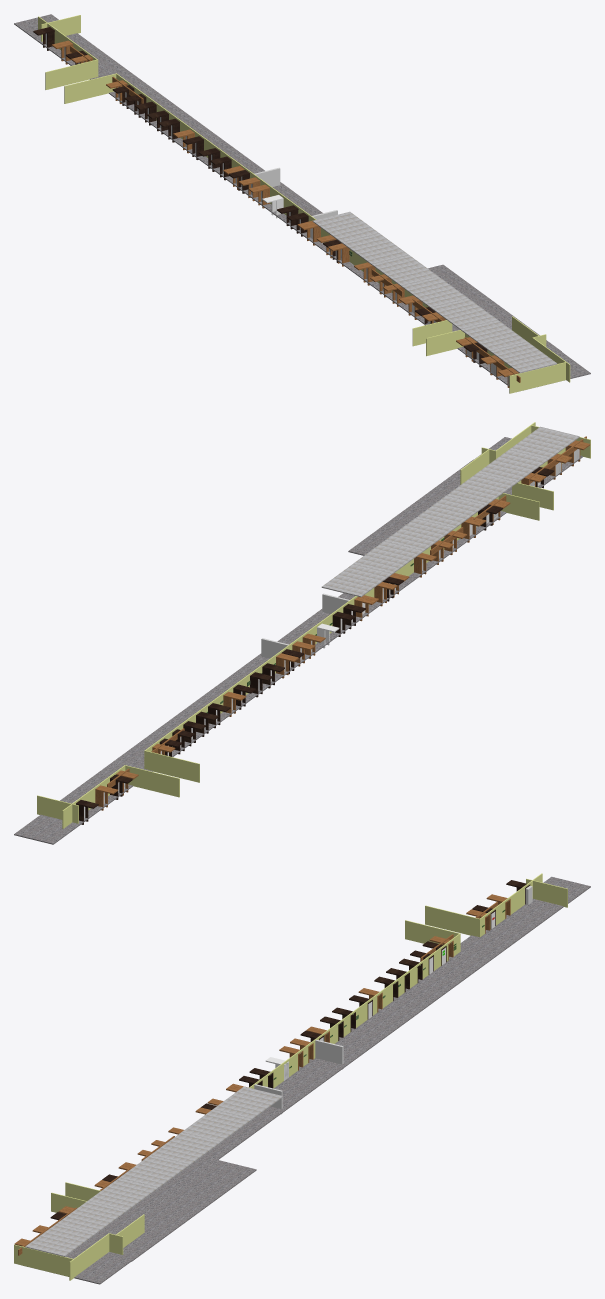
File: primekoridor22.fbx
3 renders of one model, top to bottom at view 1: azimuth 30°, elevation 25°; view 2: azimuth 150°, elevation 25°; view 3: azimuth 330°, elevation 25°, orthographic. The views are drawn at different scales.
Visible parts, largest first — view 1: Cube.091, Cube.097, Cube.092, Cube.094, Cube.093, Cube.096, Cube.095, Cube.001, Cube.218, Cube.216, Cube.031, Cube.032 (+7 smaller); view 2: Cube.097, Cube.091, Cube.093, Cube.094, Cube.095, Cube.092, Cube.096, Cube.239, Cube.216, Cube.218, Cube.032, Cube.244 (+6 smaller); view 3: Cube.091, Cube.097, Cube.094, Cube.095, Cube.093, Cube.255, Cube.092, Cube.254, Cube.096, Cube.219, Cube.253, Cube.001 (+16 smaller).
Boxes of the visible parts, left/top/right/bottom form: Cube.091: left=490, top=342, right=557, bottom=373; Cube.097: left=312, top=211, right=379, bottom=242; Cube.092: left=460, top=320, right=527, bottom=351; Cube.094: left=401, top=276, right=467, bottom=307; Cube.093: left=431, top=298, right=497, bottom=329; Cube.096: left=342, top=233, right=408, bottom=264; Cube.095: left=372, top=255, right=438, bottom=286; Cube.001: left=509, top=362, right=565, bottom=393; Cube.218: left=45, top=59, right=97, bottom=89; Cube.216: left=64, top=73, right=116, bottom=103; Cube.031: left=426, top=330, right=464, bottom=356; Cube.032: left=412, top=320, right=452, bottom=346; Cube.097: left=321, top=564, right=392, bottom=597; Cube.091: left=509, top=426, right=579, bottom=459; Cube.093: left=447, top=472, right=517, bottom=505; Cube.094: left=415, top=495, right=485, bottom=528; Cube.095: left=384, top=518, right=454, bottom=551; Cube.092: left=478, top=449, right=548, bottom=482; Cube.096: left=353, top=541, right=423, bottom=573; Cube.239: left=14, top=814, right=84, bottom=844; Cube.216: left=145, top=750, right=199, bottom=782; Cube.218: left=125, top=765, right=179, bottom=797; Cube.032: left=498, top=493, right=539, bottom=520; Cube.244: left=37, top=795, right=78, bottom=823; Cube.091: left=25, top=1223, right=95, bottom=1256; Cube.097: left=213, top=1086, right=283, bottom=1119; Cube.094: left=119, top=1155, right=189, bottom=1188; Cube.095: left=151, top=1132, right=220, bottom=1165; Cube.093: left=88, top=1178, right=158, bottom=1210; Cube.255: left=186, top=1160, right=256, bottom=1192; Cube.092: left=57, top=1201, right=127, bottom=1233; Cube.254: left=155, top=1183, right=225, bottom=1215; Cube.096: left=182, top=1109, right=251, bottom=1142; Cube.219: left=460, top=924, right=528, bottom=954; Cube.253: left=124, top=1205, right=194, bottom=1238; Cube.001: left=14, top=1244, right=72, bottom=1276.
Bounding box in the file's own units: 4226 × 767 × 31190.
